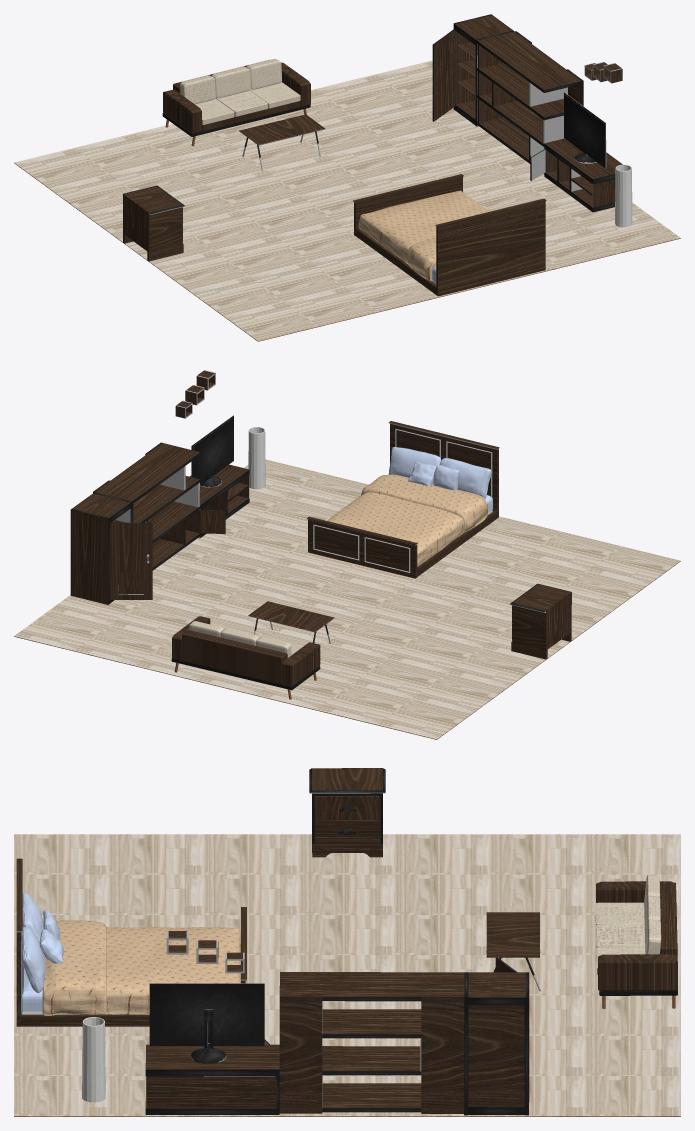
Rendered from T1 Set 2 Pos 6.glb.
The picture shows the model from 3 angles, top to bottom: view 1: azimuth 30°, elevation 25°; view 2: azimuth 150°, elevation 25°; view 3: azimuth 270°, elevation 25°; orthographic projection. The views are drawn at different scales.
Size of the model in its own units: 0.2923 by 0.0855 by 0.292.
Materials: 10 (9 with a texture image).
